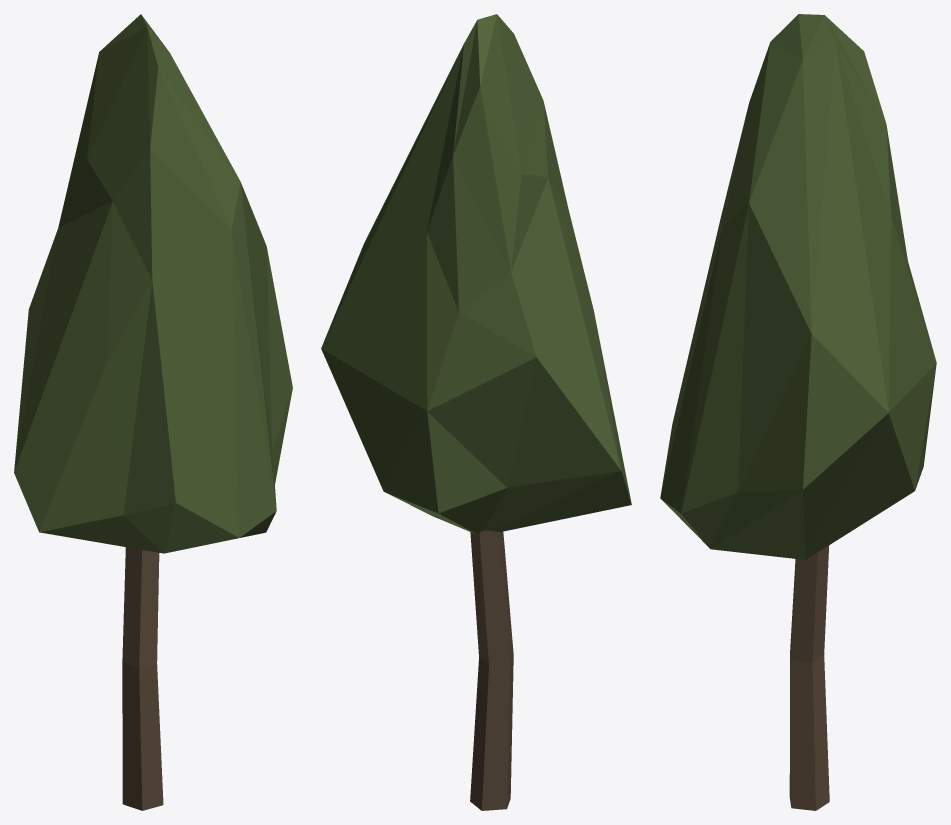
File: tree_080.fbx
The picture shows the model from 3 angles, left to right: view 1: azimuth 30°, elevation 25°; view 2: azimuth 150°, elevation 25°; view 3: azimuth 270°, elevation 25°; orthographic projection.
Parts seen in each view (by area): view 1: tree_080; view 2: tree_080; view 3: tree_080.
Boxes of the visible parts, left/top/right/bottom form: tree_080: left=14, top=14, right=292, bottom=810; tree_080: left=321, top=14, right=631, bottom=810; tree_080: left=660, top=14, right=936, bottom=810.
Size of the model in its own units: 0.5756 by 1.56 by 0.4931.
1 material, 1 textured.
